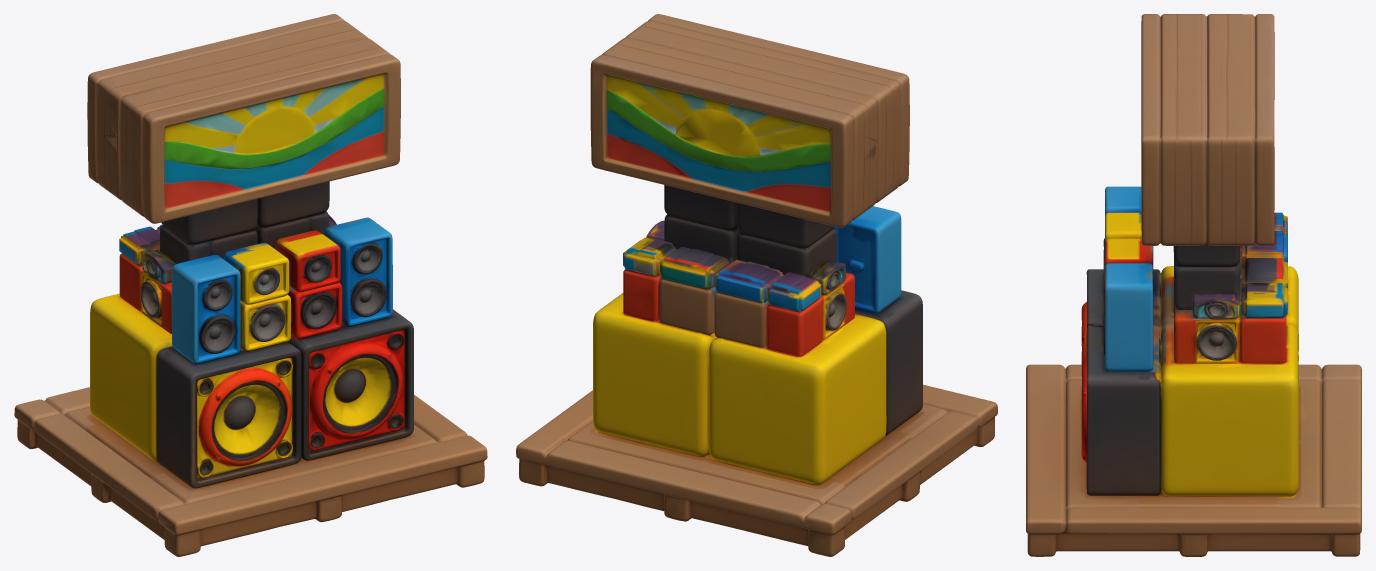
The model's file is Bafle.fbx.
3 views of the same model, side by side, from view 1: azimuth 30°, elevation 25°; view 2: azimuth 150°, elevation 25°; view 3: azimuth 270°, elevation 25° (orthographic). The views are drawn at different scales.
Visible parts, largest first — view 1: Mesh_0; view 2: Mesh_0; view 3: Mesh_0.
Boxes of the visible parts, x1,y1,x2,y2 form: Mesh_0: (14,14,487,556); Mesh_0: (516,14,997,556); Mesh_0: (1026,14,1361,556).
Bounding box in the file's own units: 67.68 × 81.12 × 60.94.
Materials: 1 (1 with a texture image).
